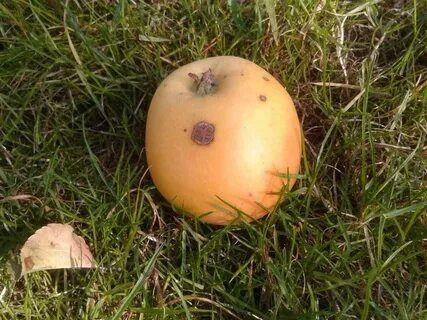Apple: (146, 56, 303, 225)
